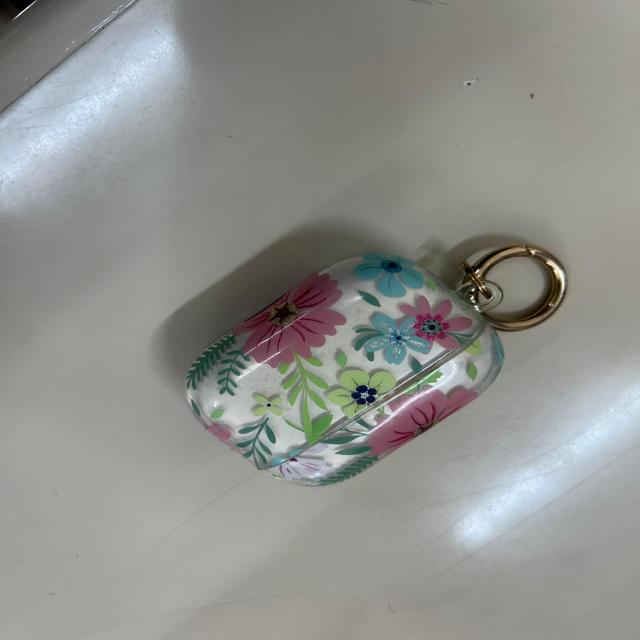inorganic: (187, 244, 570, 489)
